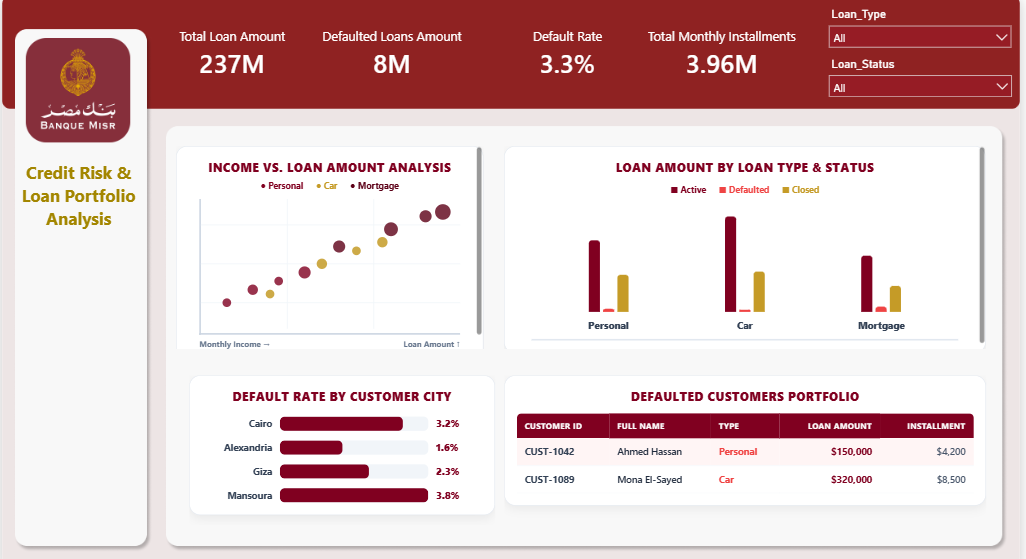

This screenshot's page, from the dashboard's own definition file:
{"tool":"powerbi","page":{"name":"Credit Risk & Loans Portfolio","canvas":[1280,720],"ordinal":3},"visuals":[{"type":"image","box":[12.1,48.3,169,131],"z":0},{"type":"textbox","box":[11.3,198.4,170.1,113.4],"z":1000},{"type":"cardVisual","fields":{"Data":["Dax.Total Loan Amount"]},"box":[181.4,0,217.3,136.1],"z":2000},{"type":"cardVisual","fields":{"Data":["Dax.Defaulted Loans Amount"]},"box":[372.3,0,238.1,136.1],"z":3000},{"type":"cardVisual","fields":{"Data":["Dax.Default Rate"]},"box":[593.4,0,238.1,136.1],"z":4000},{"type":"cardVisual","fields":{"Data":["Dax.Total Monthly Installments"]},"box":[780.5,0,249.5,136.1],"z":5000},{"type":"slicer","fields":{"Values":["Dim_Loan_Attributes.Loan_Type"]},"box":[1029.9,5.7,249.5,60.5],"z":6000},{"type":"slicer","fields":{"Values":["Dim_Loan_Attributes.Loan_Status"]},"box":[1030,68.8,250.1,61],"z":7000},{"type":"htmlContent443BE3AD55E043BF878BED274D3A6855","fields":{"content":["Dax.HTML_Loan_Amount_by_Type_Status"]},"box":[625.5,179.5,616.1,264.6],"z":8000},{"type":"htmlContent443BE3AD55E043BF878BED274D3A6855","fields":{"content":["Dax.HTML_Default_Rate_by_City"]},"box":[230.6,468.7,395,198.4],"z":9000},{"type":"htmlContent443BE3AD55E043BF878BED274D3A6855","fields":{"content":["Dax.HTML_Scatter_Plot_Analysis"]},"box":[213.5,179.5,396.9,264.6],"z":10000},{"type":"htmlContent443BE3AD55E043BF878BED274D3A6855","fields":{"content":["Dax.HTML_Defaulted_Customers_Table"]},"box":[625.5,468.7,616.1,198.4],"z":11000}]}

Visuals, with their boxes on the page's 1280x720 design canvas (x1, y1, x2, y2). These are canvas units, not pixel positions in the 1026x559 screenshot, which may show the page scaled, cropped or inside an application window:
image: Rect(12, 48, 181, 179)
textbox: Rect(11, 198, 181, 312)
cardVisual - Dax.Total Loan Amount: Rect(181, 0, 399, 136)
cardVisual - Dax.Defaulted Loans Amount: Rect(372, 0, 610, 136)
cardVisual - Dax.Default Rate: Rect(593, 0, 832, 136)
cardVisual - Dax.Total Monthly Installments: Rect(780, 0, 1030, 136)
slicer - Dim_Loan_Attributes.Loan_Type: Rect(1030, 6, 1279, 66)
slicer - Dim_Loan_Attributes.Loan_Status: Rect(1030, 69, 1280, 130)
htmlContent443BE3AD55E043BF878BED274D3A6855 - Dax.HTML_Loan_Amount_by_Type_Status: Rect(626, 180, 1242, 444)
htmlContent443BE3AD55E043BF878BED274D3A6855 - Dax.HTML_Default_Rate_by_City: Rect(231, 469, 626, 667)
htmlContent443BE3AD55E043BF878BED274D3A6855 - Dax.HTML_Scatter_Plot_Analysis: Rect(214, 180, 610, 444)
htmlContent443BE3AD55E043BF878BED274D3A6855 - Dax.HTML_Defaulted_Customers_Table: Rect(626, 469, 1242, 667)
